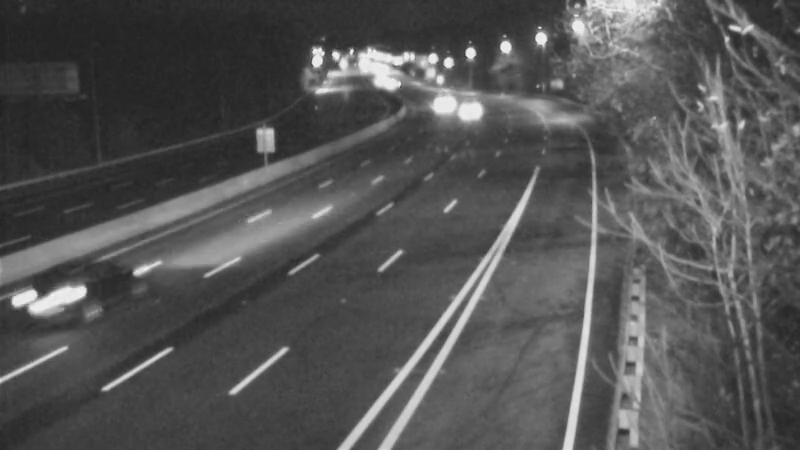vehicle: (24, 252, 104, 332), (411, 80, 461, 130), (445, 92, 495, 142)
